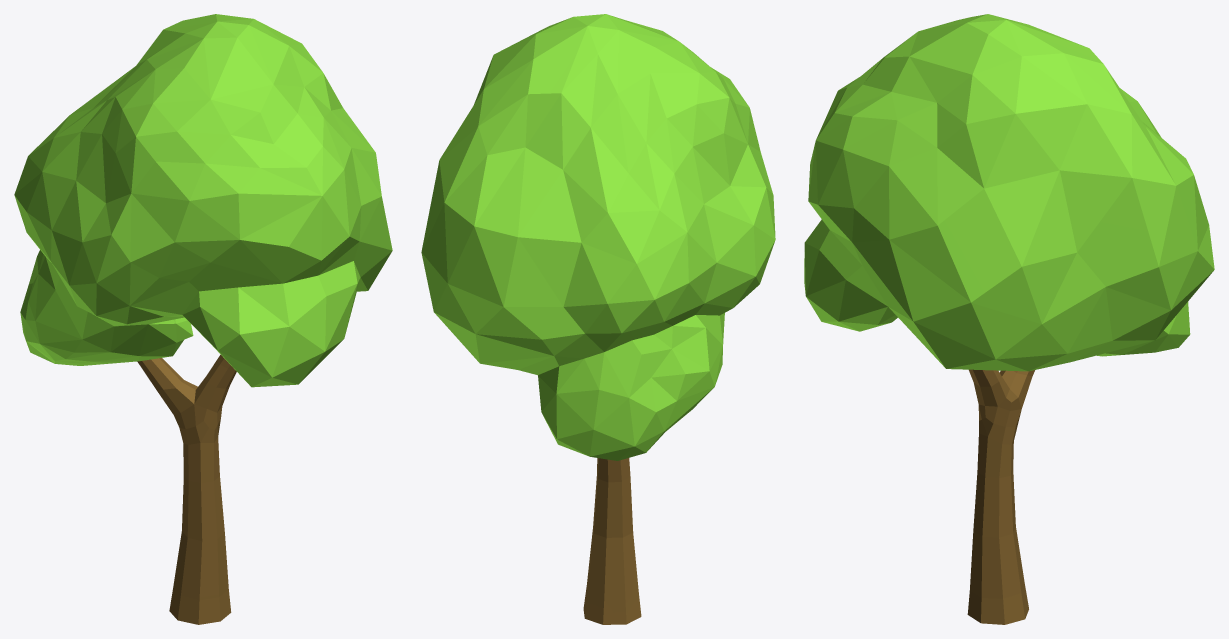
File: tree-2.glb
3 views of the same model, side by side, from view 1: azimuth 30°, elevation 25°; view 2: azimuth 150°, elevation 25°; view 3: azimuth 270°, elevation 25° (orthographic). The views are drawn at different scales.
Parts seen in each view (by area): view 1: tree3_Icosphere.003, tree3_Icosphere.005; view 2: tree3_Icosphere.003, tree3_Icosphere.005; view 3: tree3_Icosphere.003, tree3_Icosphere.005.
Boxes of the visible parts, x1,y1,x2,y2 form: tree3_Icosphere.003: [14, 14, 392, 387]; tree3_Icosphere.005: [137, 354, 236, 624]; tree3_Icosphere.003: [421, 14, 775, 460]; tree3_Icosphere.005: [583, 458, 641, 624]; tree3_Icosphere.003: [804, 14, 1214, 371]; tree3_Icosphere.005: [967, 369, 1034, 624].
Bounding box in the file's own units: 1.22 × 2.22 × 1.37.
